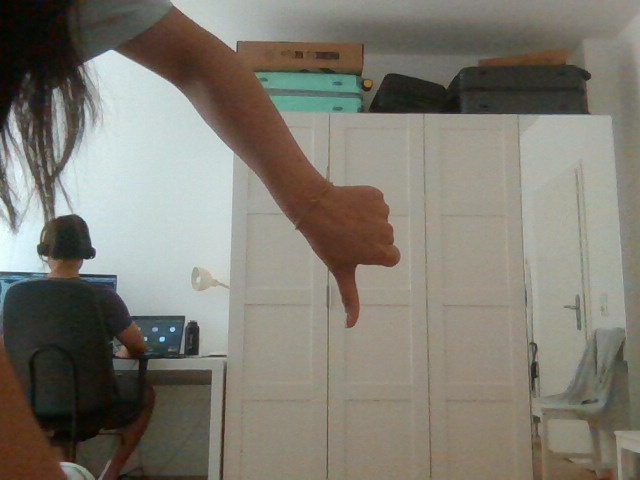thumbs_down: (302, 179, 407, 335)
